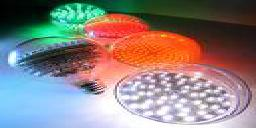LED: (116, 67, 242, 127), (7, 34, 102, 89), (113, 31, 204, 69), (46, 2, 105, 31)
